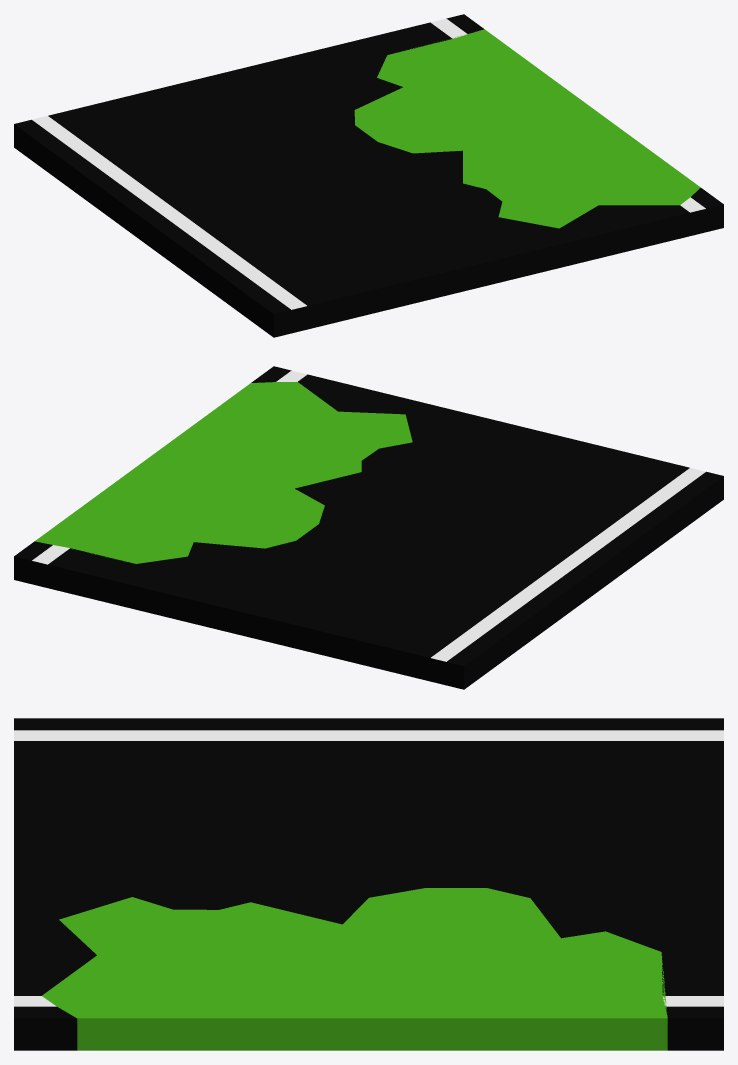
Rendered from grasstile1.fbx.
3 views of the same model, one above another, from view 1: azimuth 30°, elevation 25°; view 2: azimuth 150°, elevation 25°; view 3: azimuth 270°, elevation 25° (orthographic). The views are drawn at different scales.
Parts seen in each view (by area): view 1: Cube.003, Cube.004; view 2: Cube.003, Cube.004; view 3: Cube.003, Cube.004.
Part boxes in pixels (left/top/right/bottom): Cube.003: left=14, top=14, right=723, bottom=337; Cube.004: left=354, top=29, right=700, bottom=228; Cube.003: left=14, top=366, right=723, bottom=689; Cube.004: left=35, top=382, right=412, bottom=563; Cube.003: left=14, top=718, right=723, bottom=1050; Cube.004: left=42, top=888, right=667, bottom=1050.
Size of the model in its own units: 20 by 1 by 20.
